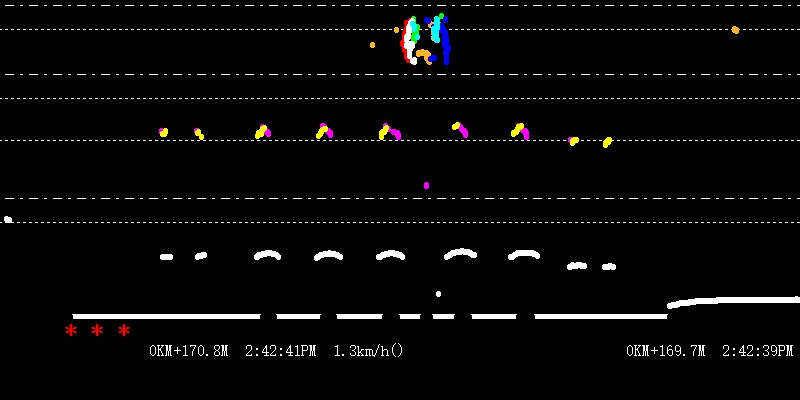J: (399, 2, 452, 66)
star: (63, 321, 80, 341), (116, 320, 131, 339), (89, 322, 104, 340)
